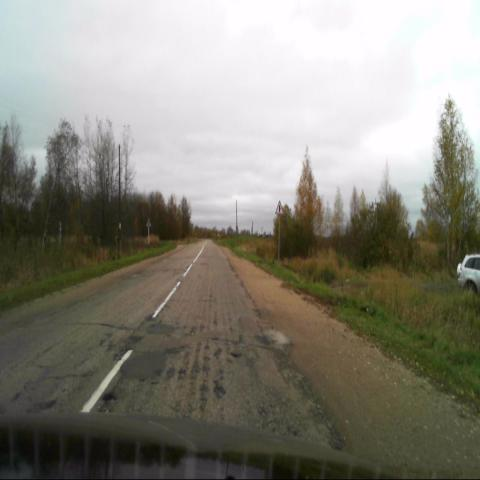2_3_2: (275, 200, 283, 214)
